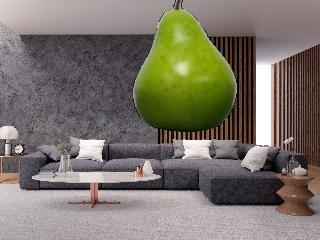pear: (132, 0, 237, 131)
